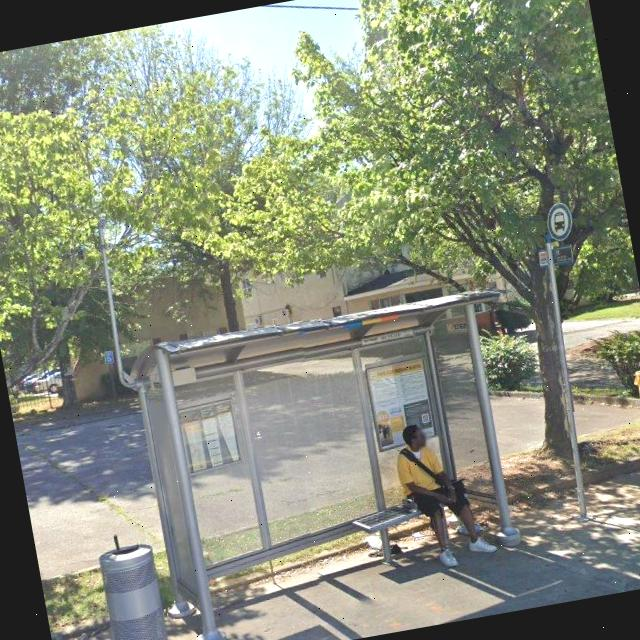seating: (350, 492, 472, 568)
shelter: (118, 283, 550, 635)
trash_can: (94, 539, 175, 640), (634, 367, 640, 418)
